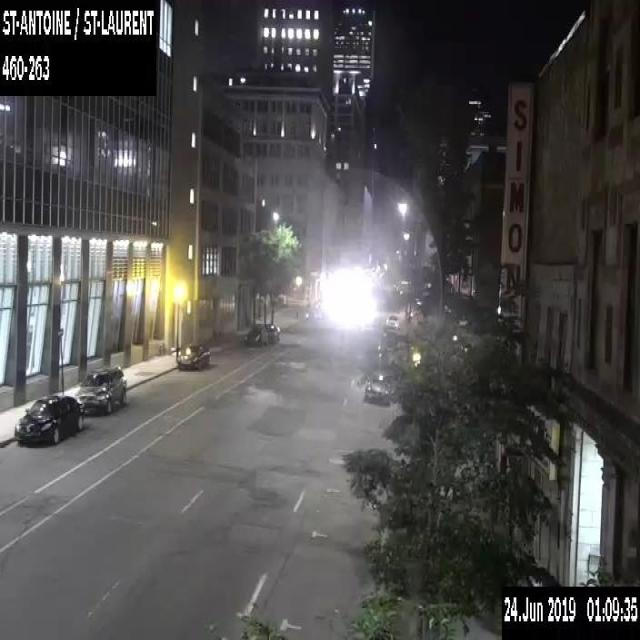vehicle: (13, 394, 86, 444), (75, 363, 126, 413), (177, 340, 210, 370), (364, 370, 390, 400), (246, 323, 269, 344), (264, 322, 280, 342), (386, 314, 400, 328)
